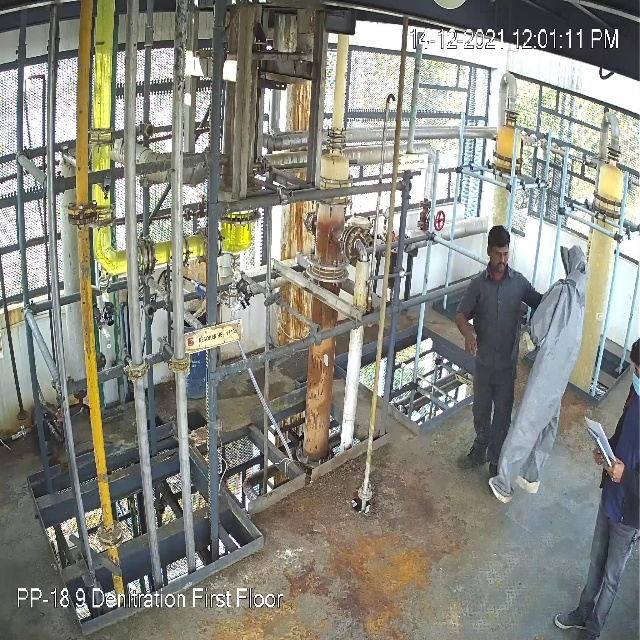Sin_gafas: (496, 246, 511, 257)
Sin_mascara: (494, 255, 510, 269)
